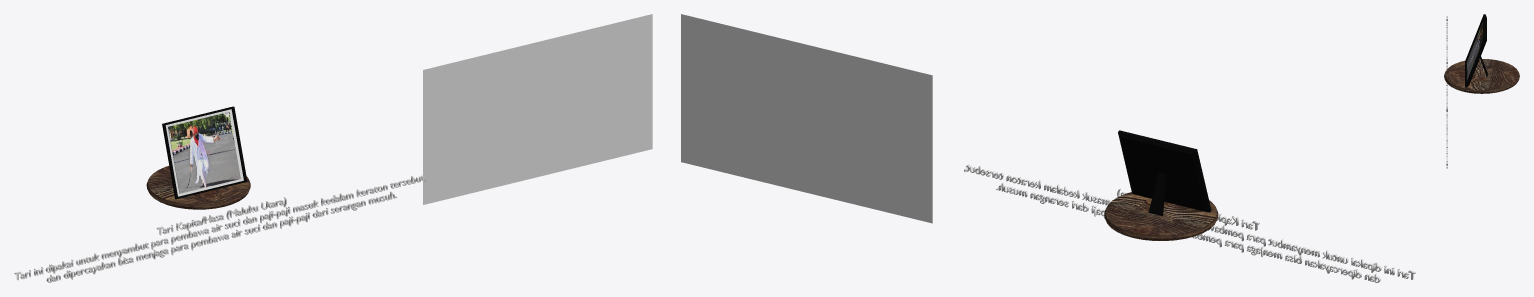
The model's file is 32. Tari Kapita hasa (Maluku Utara).fbx.
3 views of the same model, side by side, from view 1: azimuth 30°, elevation 25°; view 2: azimuth 150°, elevation 25°; view 3: azimuth 270°, elevation 25° (orthographic). The views are drawn at different scales.
Parts seen in each view (by area): view 1: Plane, Cube.020, Text; view 2: Plane, Cube.020, Text; view 3: Cube.020, Text.
Part boxes in pixels (left/top/right/bottom): Plane: left=423, top=14, right=652, bottom=204; Cube.020: left=146, top=106, right=250, bottom=209; Text: left=14, top=175, right=426, bottom=282; Plane: left=681, top=14, right=932, bottom=223; Cube.020: left=1104, top=130, right=1218, bottom=240; Text: left=964, top=165, right=1415, bottom=282; Cube.020: left=1444, top=14, right=1519, bottom=93; Text: left=1446, top=16, right=1447, bottom=168.
Size of the model in its own units: 9111 by 1806 by 1260.
Materials: 6 (3 with a texture image).
